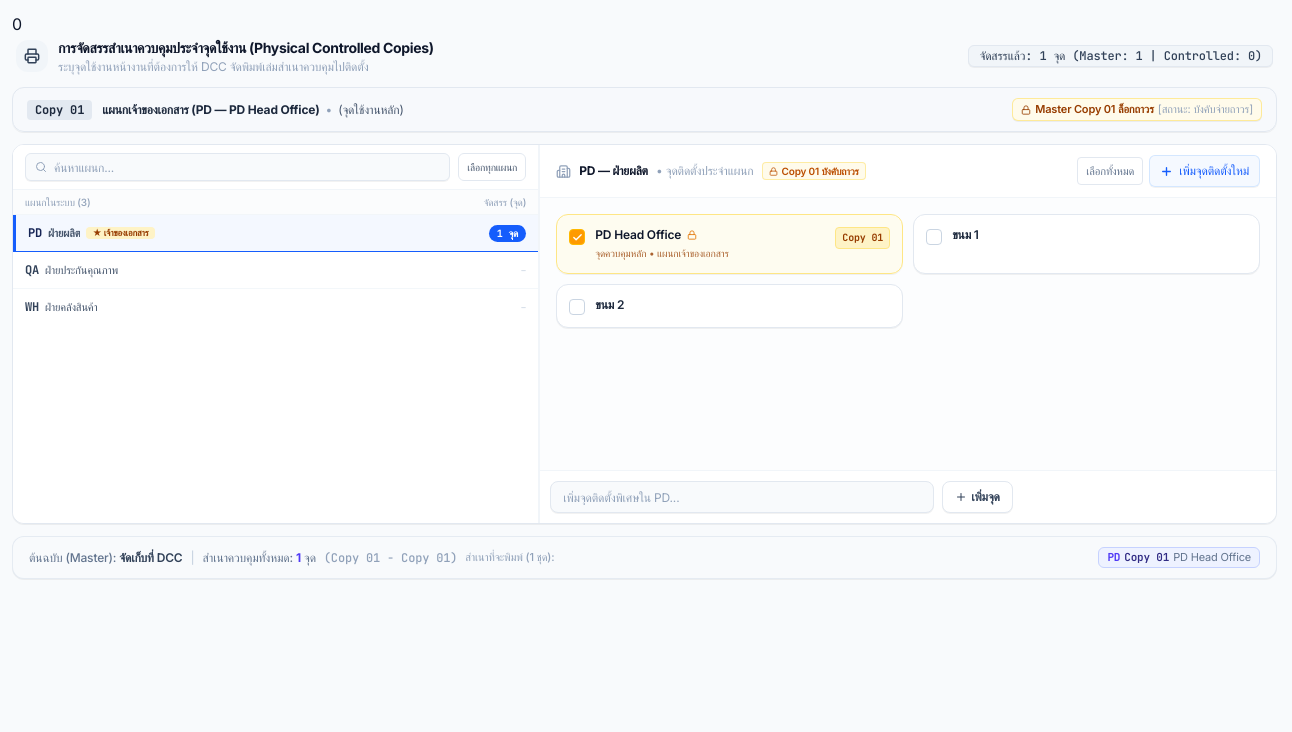
Test case: Distribution Station Checkbox Click, ID Normalization & Real-time Allocation Sync Tests › Test Case 3: Clicking station "ขนม 1" again unselects it and re-indexes counters cleanly
Click the button "ขนม 1".
click(934, 237)  # box [913, 214, 1260, 274]
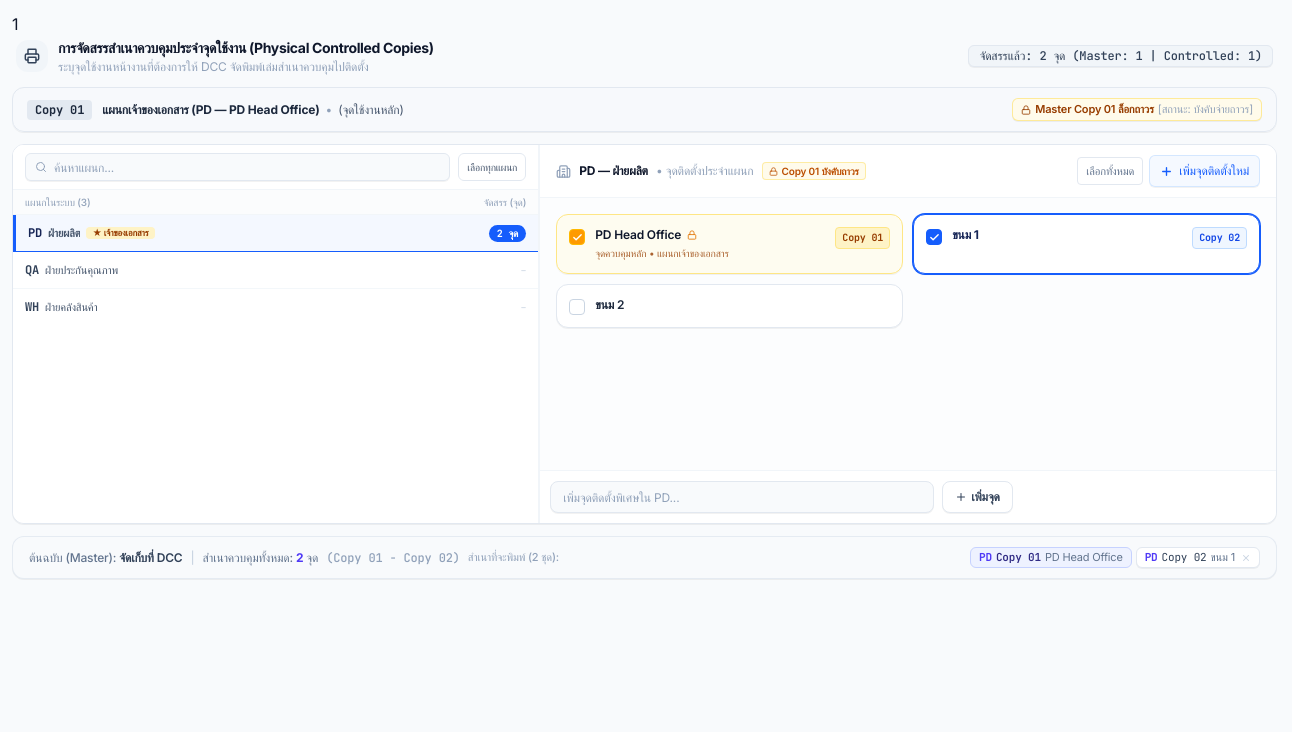
Now the button "PD ฝ่ายผลิต ★ เจ้าของเอกสาร 2 จุด" is shown, box [13, 215, 538, 252]
# Unselect by clicking again
Click the button "ขนม 1 Copy 02".
click(1220, 238)  # box [913, 214, 1260, 274]
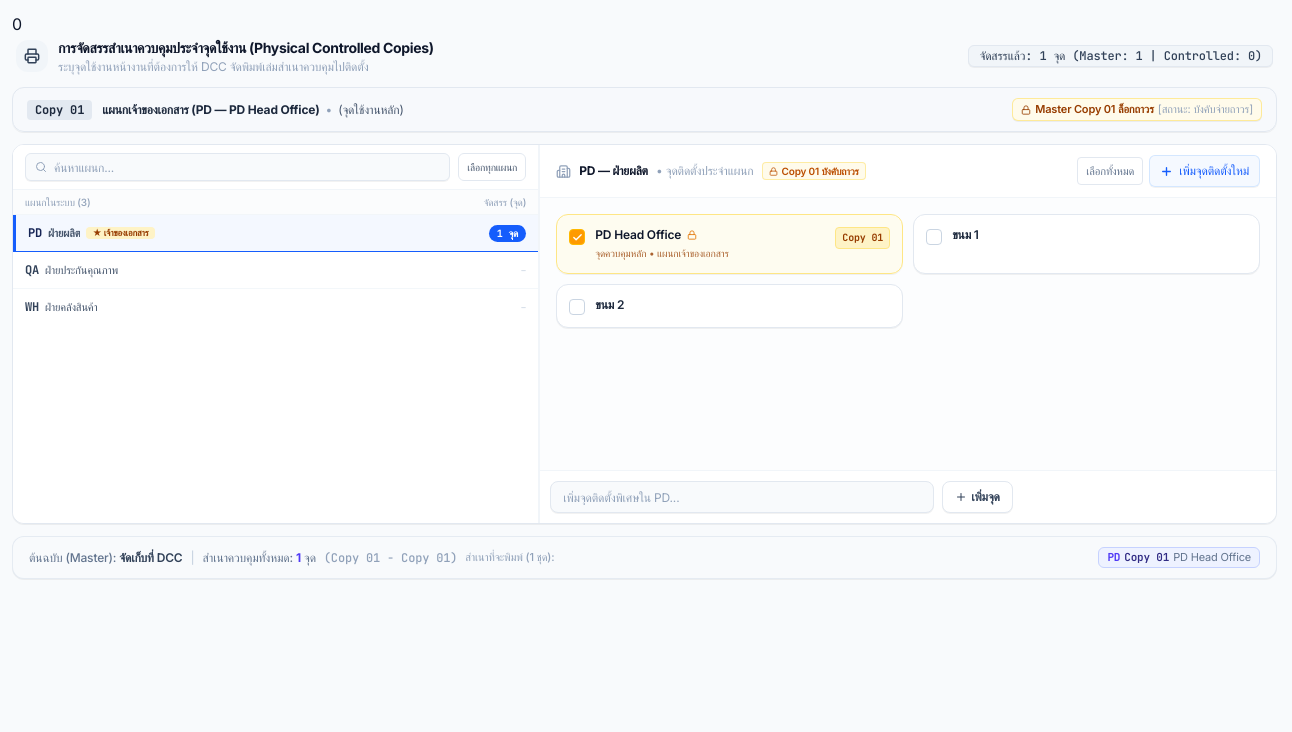
Now the text "Copy 02" is gone
Now the button "PD ฝ่ายผลิต ★ เจ้าของเอกสาร 1 จุด" is shown, box [13, 215, 538, 252]
Now the text with test id "distributions-count" reads "0", box [12, 14, 22, 34]
